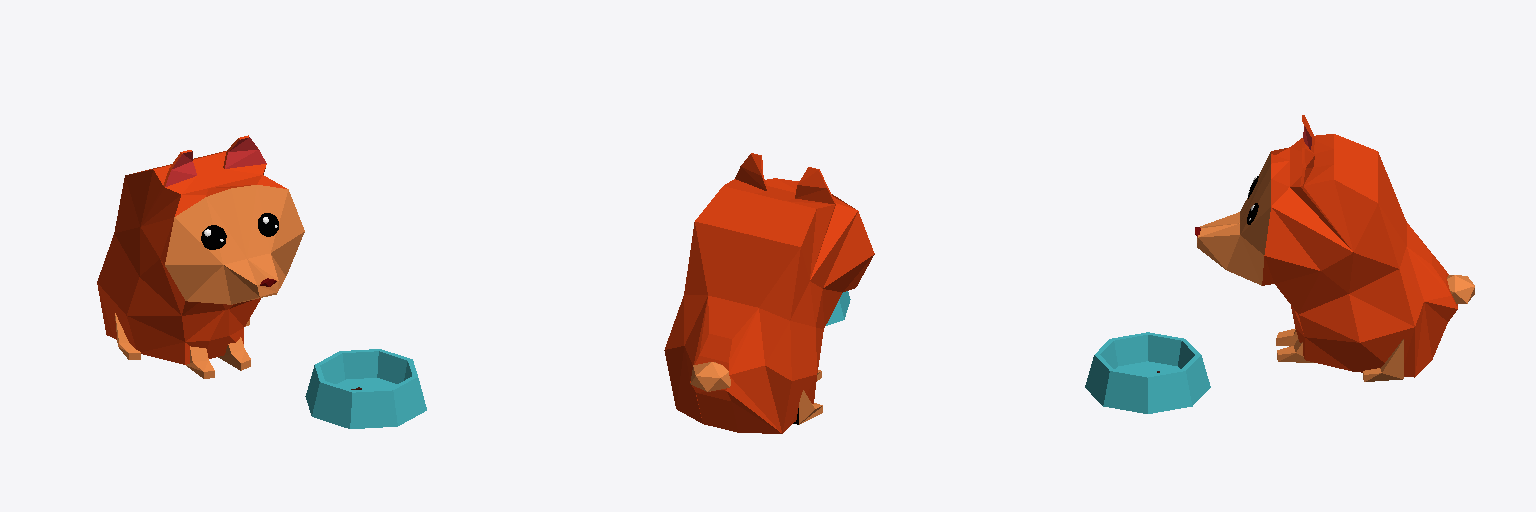
File: dog1.obj
3 views of the same model, side by side, from view 1: azimuth 30°, elevation 25°; view 2: azimuth 150°, elevation 25°; view 3: azimuth 270°, elevation 25° (orthographic).
Parts seen in each view (by area): view 1: Box005, ChamferCyl001; view 2: Box005; view 3: Box005, ChamferCyl001.
Boxes of the visible parts, box(x1,y1,x2,y2) form: Box005: box(97, 135, 304, 378); ChamferCyl001: box(305, 349, 426, 428); Box005: box(664, 153, 874, 433); Box005: box(1195, 115, 1474, 381); ChamferCyl001: box(1085, 332, 1210, 413).
Bounding box in the file's own units: 42.55 × 45.34 × 72.67.